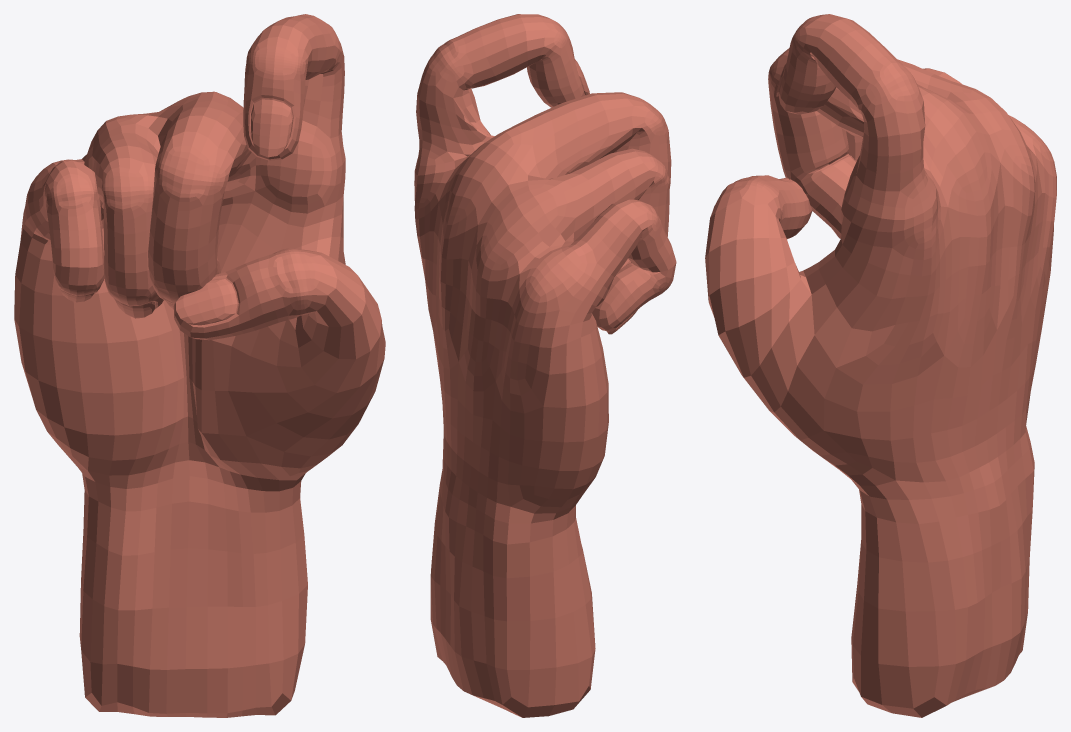
The picture shows the model from 3 angles, left to right: view 1: azimuth 30°, elevation 25°; view 2: azimuth 150°, elevation 25°; view 3: azimuth 270°, elevation 25°; orthographic projection. The views are drawn at different scales.
Parts seen in each view (by area): view 1: ZBrushPolyMesh3D; view 2: ZBrushPolyMesh3D; view 3: ZBrushPolyMesh3D.
Boxes of the visible parts, <box> form: ZBrushPolyMesh3D: <box>14,14,385,717</box>; ZBrushPolyMesh3D: <box>414,14,676,717</box>; ZBrushPolyMesh3D: <box>705,14,1056,717</box>.
Bounding box in the file's own units: 1.84 × 4.35 × 2.02.
